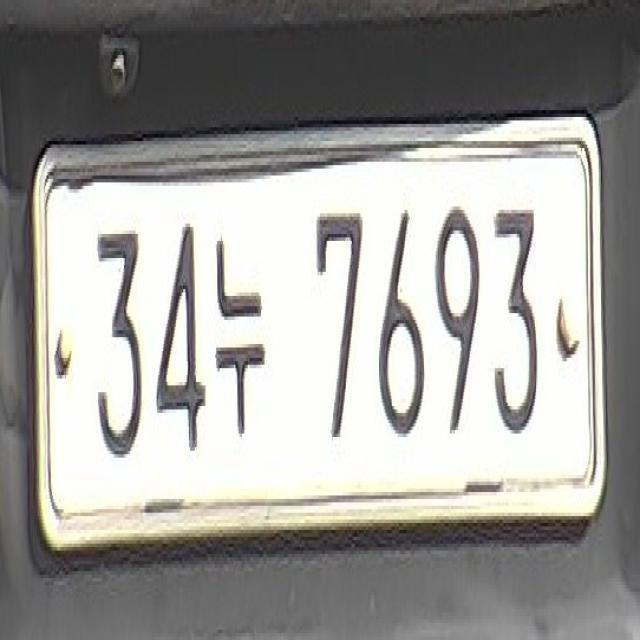plat: (30, 114, 606, 554)
